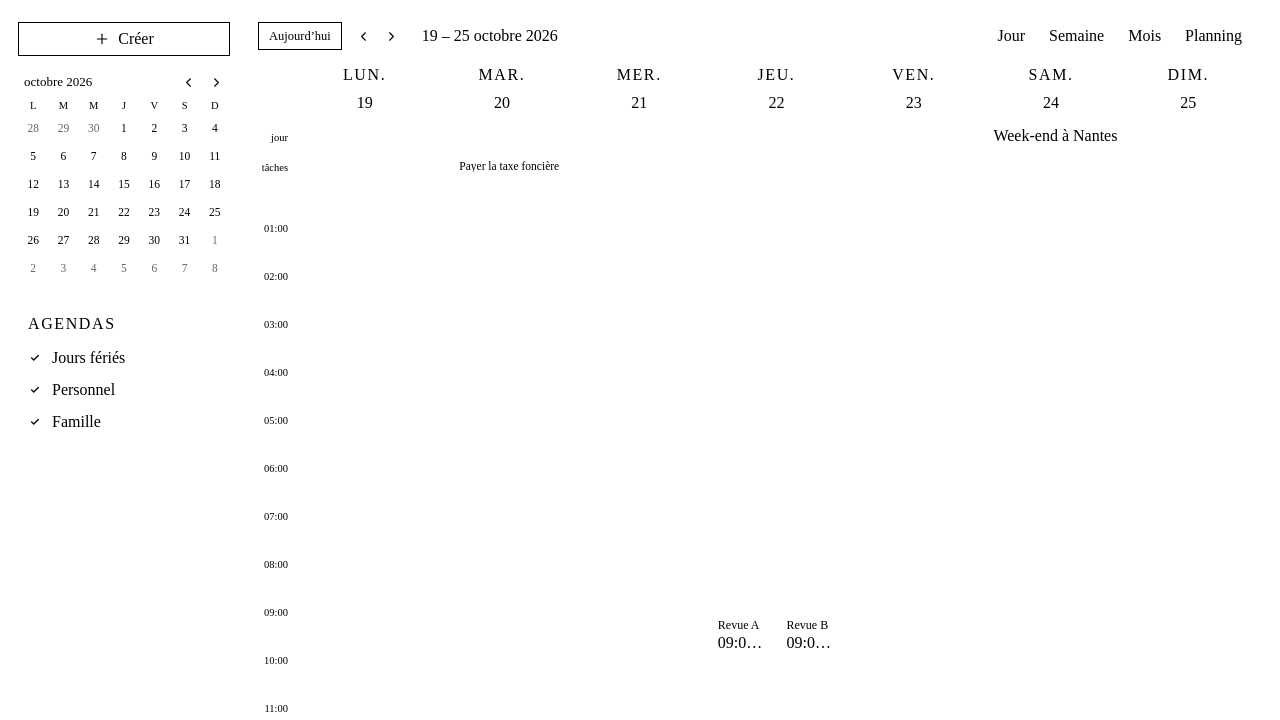
Test case: Agenda › opens the reminder menu above the editor and adds the chosen reminder (#39)
The width and height of the screenshot is (1280, 720).
Click the button "Créer" at (124, 39), box [18, 22, 230, 56]
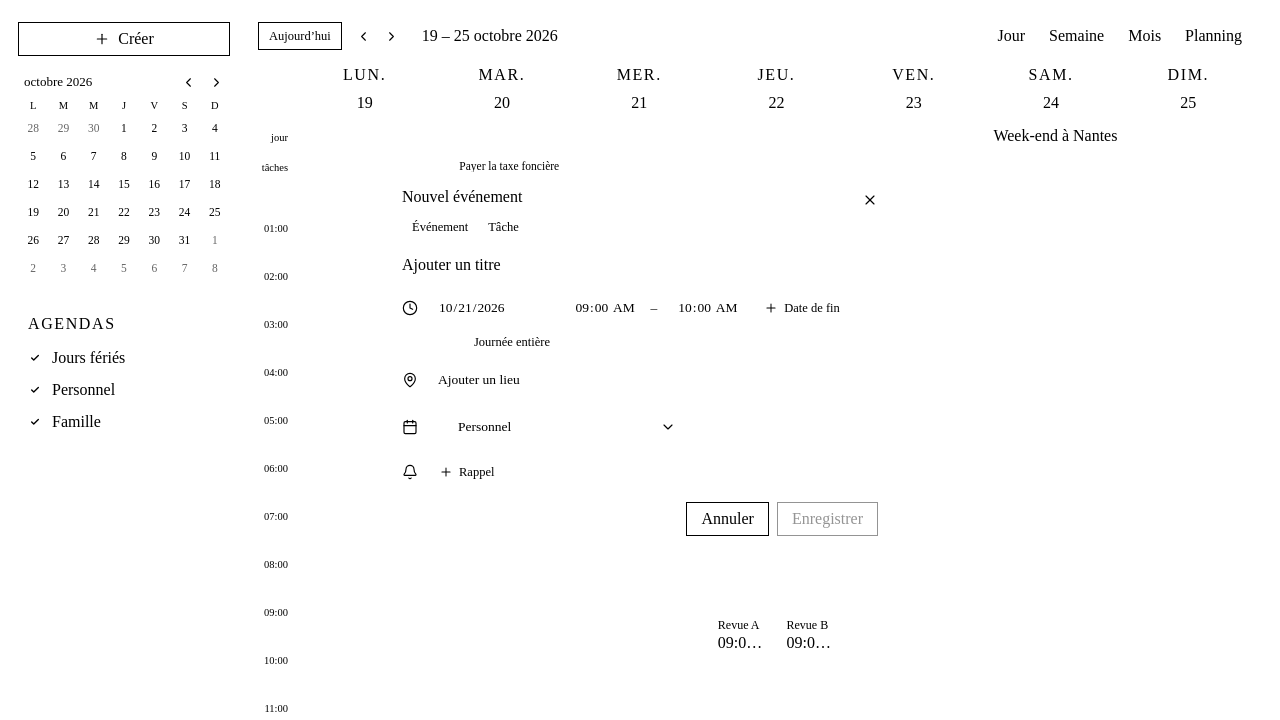
Click the button "Rappel" at (467, 472), box [428, 458, 505, 486]
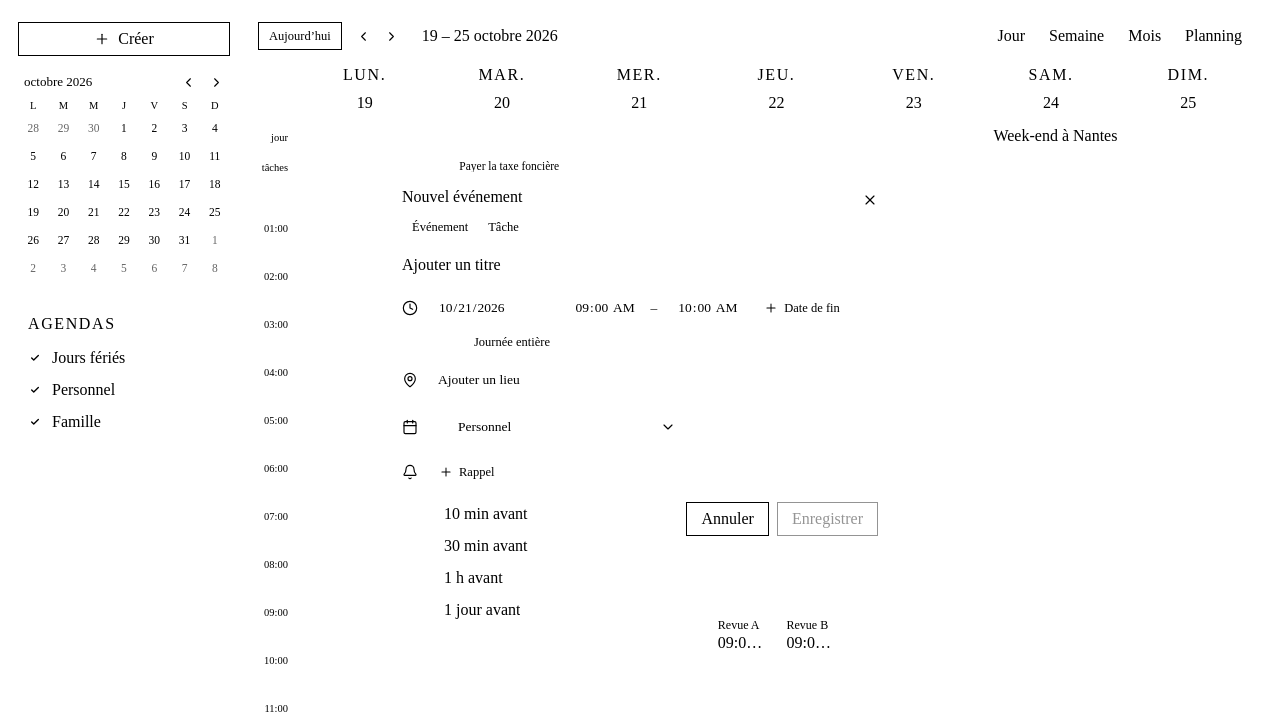
Click the menu item "10 min avant" at (486, 514), box [444, 505, 528, 522]
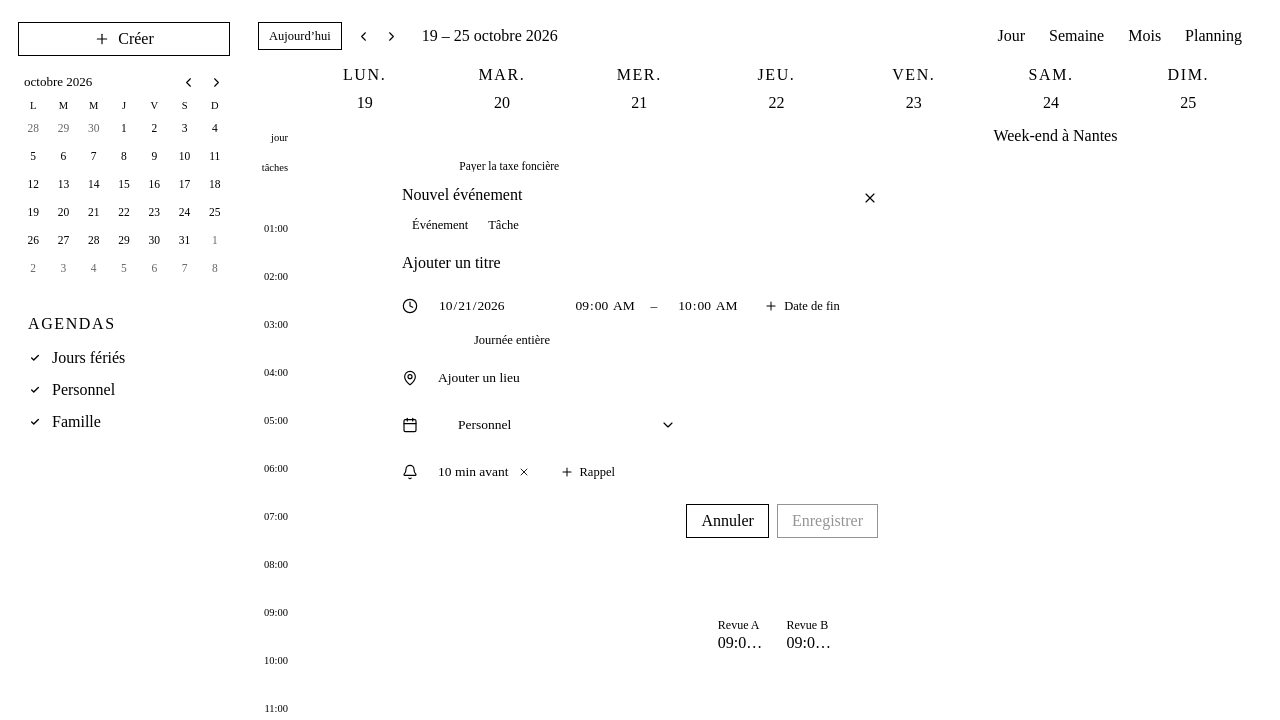
Result: the button named "Retirer le rappel" is shown at [514, 463, 532, 481]
